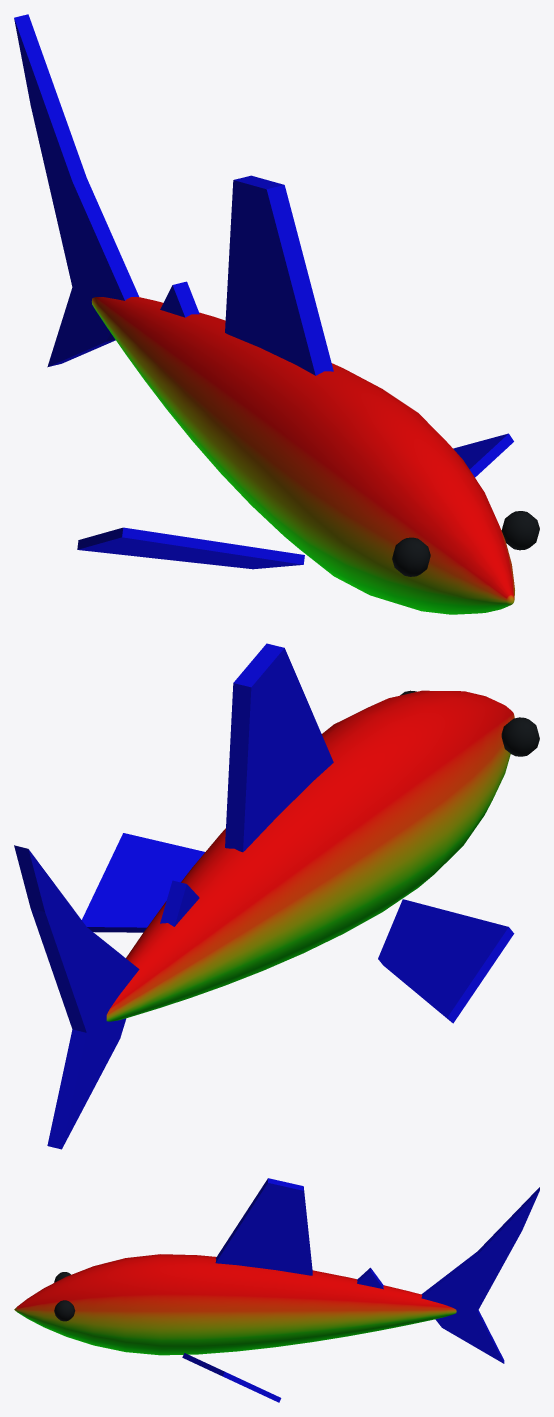
File: fish_shark.glb
3 renders of one model, top to bottom at view 1: azimuth 30°, elevation 25°; view 2: azimuth 150°, elevation 25°; view 3: azimuth 270°, elevation 25°, orthographic. The views are drawn at different scales.
Visible parts, largest first — view 1: Body, Eye; view 2: Body, Eye; view 3: Body, Eye.
Boxes of the visible parts, box(x1,y1,x2,y2) form: Body: box(14, 14, 514, 614); Eye: box(392, 511, 539, 576); Body: box(14, 643, 514, 1149); Eye: box(400, 690, 539, 756); Body: box(14, 1178, 539, 1402); Eye: box(54, 1272, 75, 1321).
Size of the model in its own units: 0.5428 by 0.45 by 1.18.
